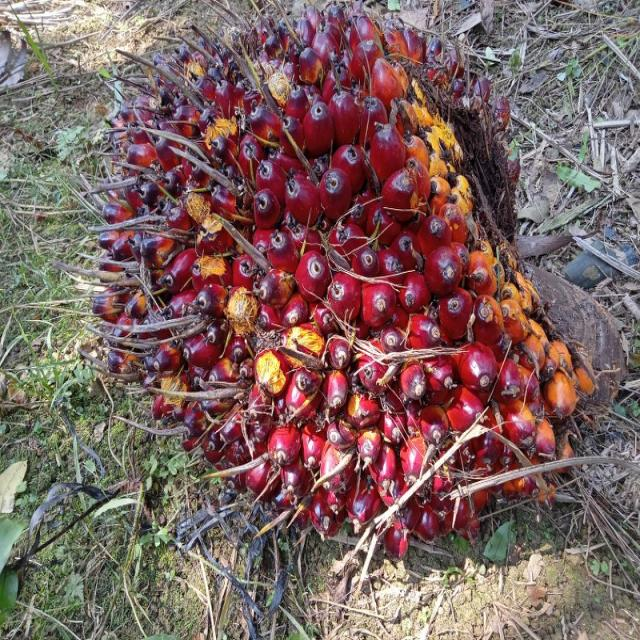fraksi 1: (65, 2, 611, 602)
